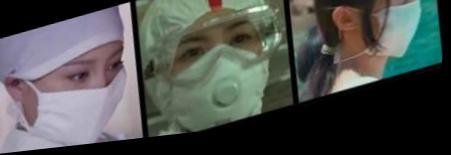OK: (152, 16, 273, 140), (29, 47, 141, 152)
WRONG: (338, 1, 438, 78)
